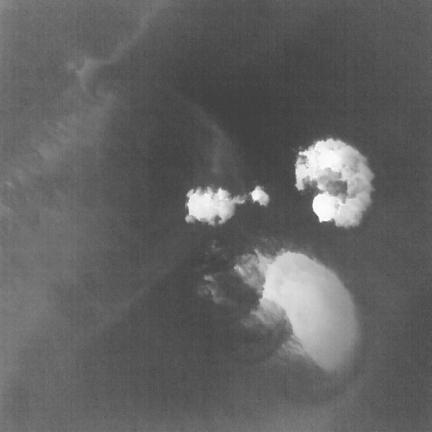flukeprints: (262, 251, 358, 370), (296, 138, 373, 226), (185, 186, 269, 225), (235, 251, 273, 295), (251, 299, 291, 332), (278, 333, 308, 361)
